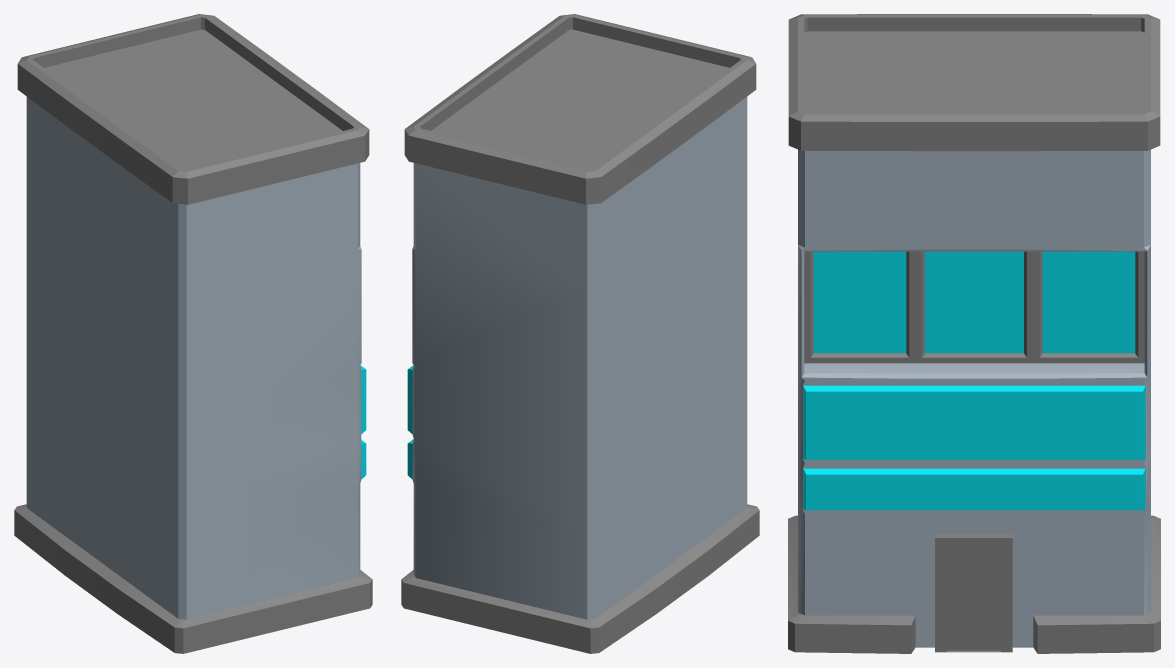
File: Building_02.FBX
The picture shows the model from 3 angles, left to right: view 1: azimuth 30°, elevation 25°; view 2: azimuth 150°, elevation 25°; view 3: azimuth 270°, elevation 25°; orthographic projection. The views are drawn at different scales.
Parts seen in each view (by area): view 1: Box001; view 2: Box001; view 3: Box001, Door.
Boxes of the visible parts, x1,y1,x2,y2 form: Box001: (14,14,372,653); Box001: (401,14,759,653); Box001: (788,14,1160,653); Door: (935,534,1012,652).
Bounding box in the file's own units: 448 × 1001 × 634.
